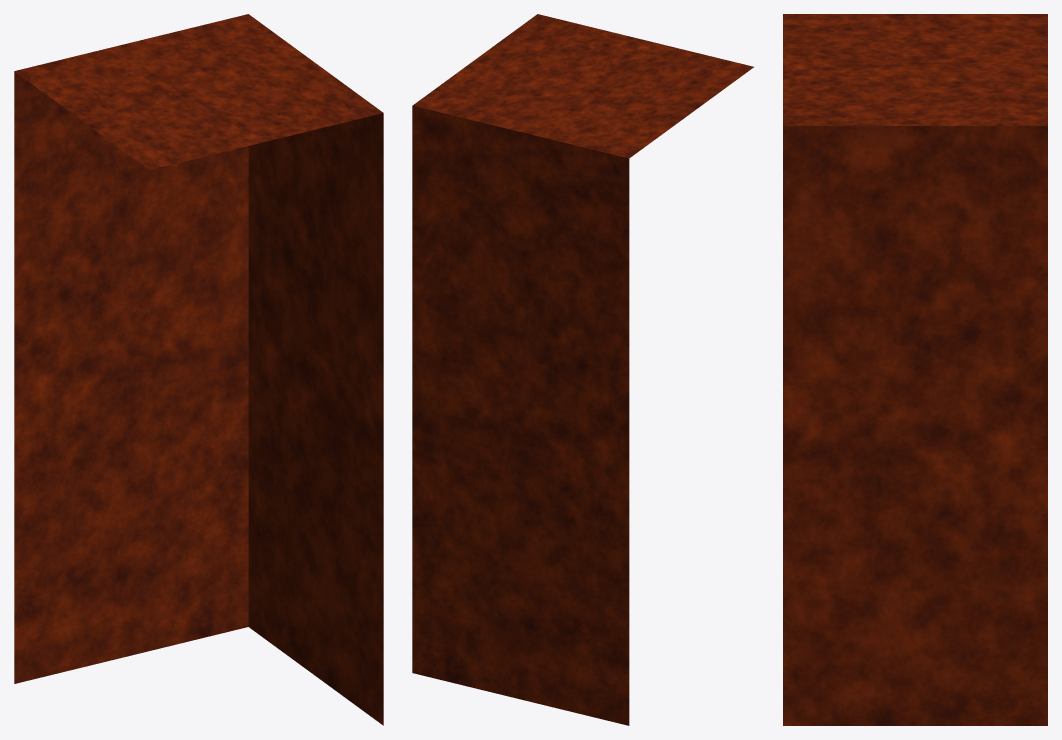
Rendered from MountainEdge2.glb.
3 views of the same model, side by side, from view 1: azimuth 30°, elevation 25°; view 2: azimuth 150°, elevation 25°; view 3: azimuth 270°, elevation 25° (orthographic). The views are drawn at different scales.
Parts seen in each view (by area): view 1: ground; view 2: ground; view 3: ground.
Part boxes in pixels (x1,y1,x2,y2): ground: (14, 14, 383, 725); ground: (412, 14, 753, 725); ground: (783, 14, 1047, 725).
Size of the model in its own units: 2 by 5 by 2.
1 material, 1 textured.
